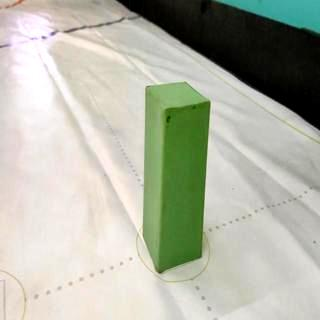greenbox: (144, 80, 213, 278)
